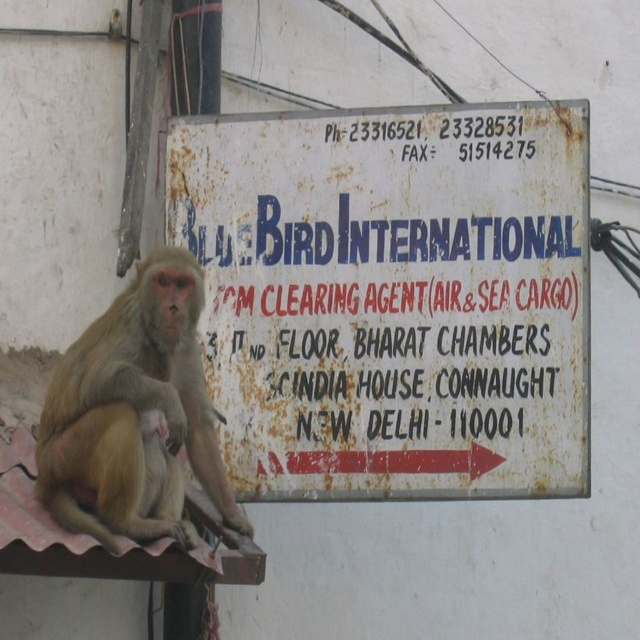Monkey: (30, 243, 247, 575)
